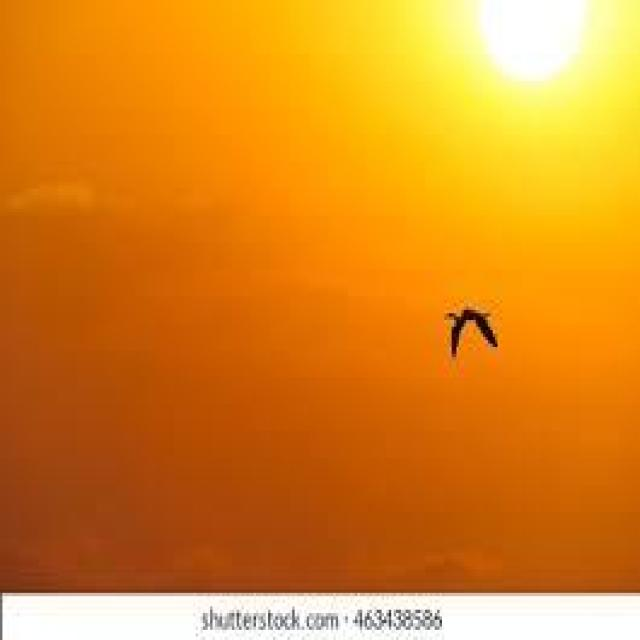bird: (446, 308, 502, 354)
